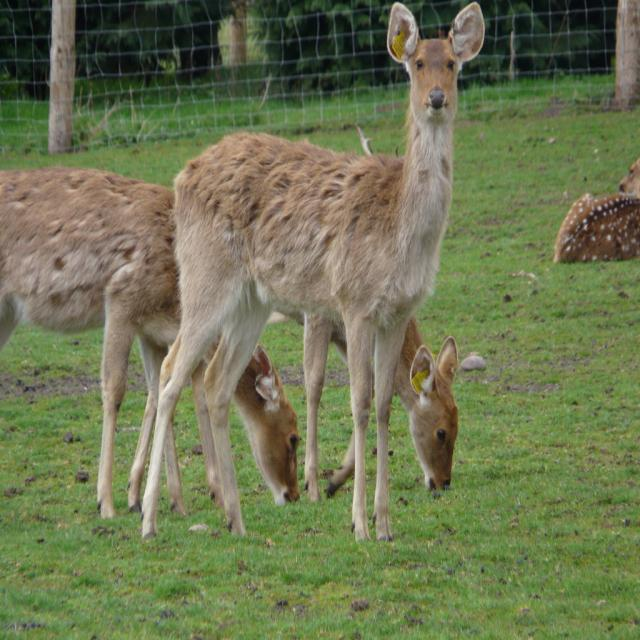Deer: (141, 1, 481, 545), (0, 164, 298, 518), (126, 314, 459, 514), (552, 155, 640, 262)
